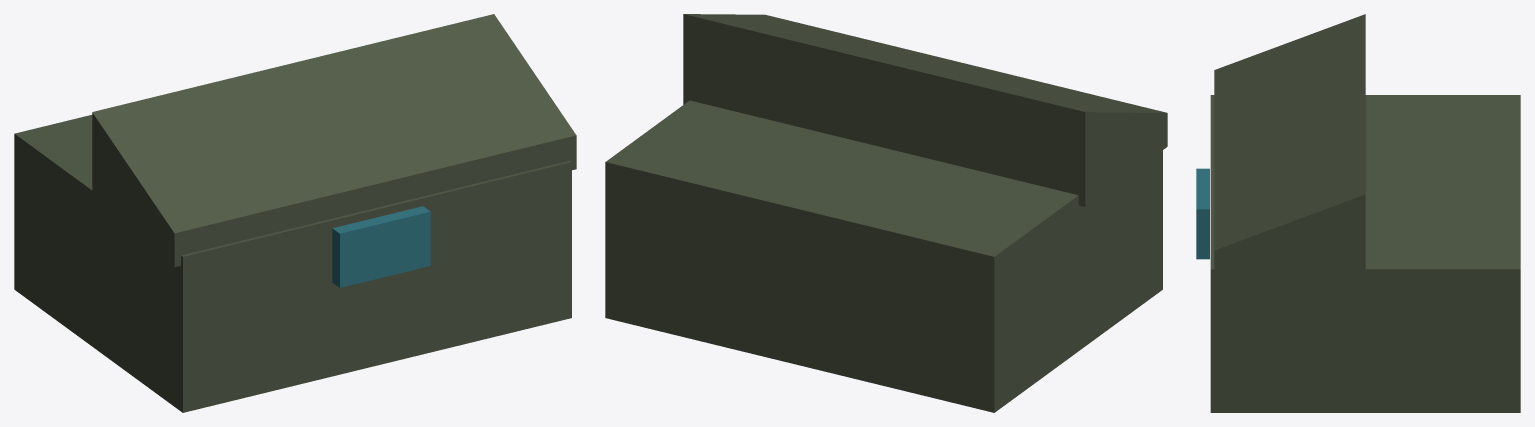
File: Bastion_AdvancedGunTower_WeaponYaw.obj
3 views of the same model, side by side, from view 1: azimuth 30°, elevation 25°; view 2: azimuth 150°, elevation 25°; view 3: azimuth 270°, elevation 25° (orthographic). The views are drawn at different scales.
Visible parts, largest first — view 1: Bastion_AdvancedGunTower_WeaponYaw; view 2: Bastion_AdvancedGunTower_WeaponYaw; view 3: Bastion_AdvancedGunTower_WeaponYaw.
Boxes of the visible parts, x1=… form: Bastion_AdvancedGunTower_WeaponYaw: x1=14, y1=14, x2=576, y2=412; Bastion_AdvancedGunTower_WeaponYaw: x1=605, y1=14, x2=1167, y2=412; Bastion_AdvancedGunTower_WeaponYaw: x1=1196, y1=14, x2=1520, y2=412.
Bounding box in the file's own units: 3.1 × 1.78 × 2.36.
1 material, 1 textured.
